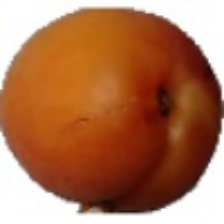apricot: (24, 22, 212, 184)
